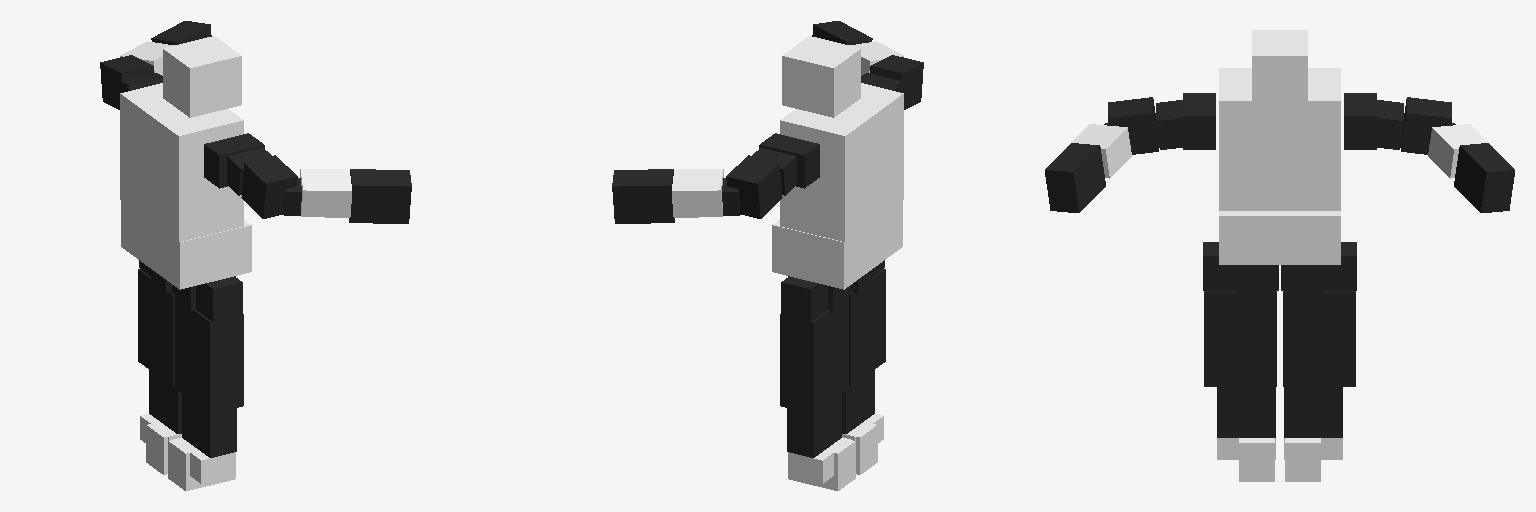
--- What the picture shows (computed from the rendered views, not written in the file) ---
3 views of the same robot in one strip: view 1: azimuth 30°, elevation 25°; view 2: azimuth 150°, elevation 25°; view 3: azimuth 270°, elevation 25° (orthographic).
Model talos with 60 links and 59 joints (32 revolute, 27 fixed), rooted at base_link, posed joints at zero except 4 at the middle of their limits (arm_left_2_joint = 1.44, arm_left_4_joint = -1.12, arm_right_2_joint = -1.44, arm_right_4_joint = -1.12).
Links seen in each view (by area): view 1: torso_2_link, leg_right_3_link, base_link, head_2_link, leg_left_3_link, arm_right_7_link, arm_right_3_link, arm_right_5_link, leg_right_4_link, leg_right_2_link, arm_right_1_link, arm_left_3_link (+7 smaller); view 2: torso_2_link, leg_left_3_link, base_link, head_2_link, leg_right_3_link, arm_left_7_link, arm_left_3_link, arm_left_5_link, leg_left_4_link, leg_left_2_link, arm_left_1_link, arm_right_3_link (+7 smaller); view 3: torso_2_link, leg_left_3_link, leg_right_3_link, base_link, head_2_link, arm_left_7_link, arm_right_7_link, leg_left_4_link, leg_right_4_link, arm_left_3_link, arm_right_3_link, arm_left_1_link (+11 smaller).
Link boxes in pixels (x1=…): torso_2_link: x1=120, y1=83, x2=243, y2=241; leg_right_3_link: x1=175, y1=300, x2=243, y2=413; base_link: x1=121, y1=201, x2=251, y2=289; head_2_link: x1=163, y1=36, x2=241, y2=117; leg_left_3_link: x1=138, y1=269, x2=174, y2=386; arm_right_7_link: x1=349, y1=169, x2=411, y2=223; arm_right_3_link: x1=241, y1=155, x2=297, y2=218; arm_right_5_link: x1=300, y1=169, x2=351, y2=217; leg_right_4_link: x1=182, y1=394, x2=236, y2=457; leg_right_2_link: x1=196, y1=276, x2=242, y2=321; arm_right_1_link: x1=204, y1=133, x2=264, y2=188; arm_left_3_link: x1=100, y1=55, x2=153, y2=109; torso_2_link: x1=780, y1=83, x2=903, y2=241; leg_left_3_link: x1=780, y1=300, x2=848, y2=413; base_link: x1=772, y1=201, x2=902, y2=289; head_2_link: x1=782, y1=36, x2=860, y2=117; leg_right_3_link: x1=849, y1=269, x2=885, y2=386; arm_left_7_link: x1=612, y1=169, x2=674, y2=223; arm_left_3_link: x1=726, y1=155, x2=782, y2=218; arm_left_5_link: x1=672, y1=169, x2=723, y2=217; leg_left_4_link: x1=787, y1=394, x2=841, y2=457; leg_left_2_link: x1=781, y1=276, x2=827, y2=321; arm_left_1_link: x1=759, y1=133, x2=819, y2=188; arm_right_3_link: x1=870, y1=55, x2=923, y2=109; torso_2_link: x1=1219, y1=68, x2=1340, y2=210; leg_left_3_link: x1=1283, y1=291, x2=1355, y2=386; leg_right_3_link: x1=1204, y1=291, x2=1276, y2=386; base_link: x1=1219, y1=211, x2=1340, y2=264; head_2_link: x1=1252, y1=30, x2=1307, y2=107; arm_left_7_link: x1=1454, y1=143, x2=1514, y2=212; arm_right_7_link: x1=1045, y1=143, x2=1105, y2=212; leg_left_4_link: x1=1284, y1=387, x2=1342, y2=437; leg_right_4_link: x1=1217, y1=387, x2=1275, y2=437; arm_left_3_link: x1=1401, y1=97, x2=1451, y2=154; arm_right_3_link: x1=1108, y1=97, x2=1158, y2=154; arm_left_1_link: x1=1344, y1=93, x2=1376, y2=149.
Size in the robot's own frame: 0.7145 by 1.74 by 1.76 metres.
0 mesh visuals loaded from 10 distinct referenced files (none loaded); not drawn: 21 (file found but could not be loaded).

The robot description file, URDF, robot "talos":
<?xml version="1.0" encoding="utf-8"?>
<!-- =================================================================================== -->
<!-- |    This document was autogenerated by xacro from talos_full_v2.urdf.xacro       | -->
<!-- |    EDITING THIS FILE BY HAND IS NOT RECOMMENDED                                 | -->
<!-- =================================================================================== -->
<!--

  Copyright (c) 2016, PAL Robotics, S.L.
  All rights reserved.

  This work is licensed under the Creative Commons Attribution-NonCommercial-NoDerivs 3.0 Unported License.
  To view a copy of this license, visit http://creativecommons.org/licenses/by-nc-nd/3.0/ or send a letter to
  Creative Commons, 444 Castro Street, Suite 900, Mountain View, California, 94041, USA.
-->
<robot name="talos" xmlns:controller="http://playerstage.sourceforge.net/gazebo/xmlschema/#controller" xmlns:interface="http://playerstage.sourceforge.net/gazebo/xmlschema/#interface" xmlns:sensor="http://playerstage.sourceforge.net/gazebo/xmlschema/#sensor">
  <!--************************-->
  <!--        TORSO_2  (TILT) -->
  <!--************************-->
  <link name="torso_2_link">
    <inertial>
      <mass value="16.97403"/>
      <inertia ixx="0.44372633826" ixy="0.00069132133" ixz="-0.01218206353" iyy="0.2998576068" iyz="-0.00019623338" izz="0.32201554742"/>
      <origin rpy="0 0 0" xyz="-0.0463563 -0.00099023 0.1452805"/>
    </inertial>
    <visual>
      <origin rpy="0 0 0" xyz="-0.06 0 0.17"/>
      <geometry>
        <box size="0.29 0.45 0.45"/>
      </geometry>
      <material name="White"/>
    </visual>
    <collision>
      <origin rpy="0 0 0" xyz="-0.06 0 0.17"/>
      <geometry>
        <box size="0.29 0.45 0.45"/>
        <!-- <mesh filename="package://talos_description/meshes/torso/torso_2_collision.glb" scale="1 1 1"/> -->
      </geometry>
    </collision>
  </link>
  <!--************************-->
  <!--        TORSO_1  (PAN)  -->
  <!--************************-->
  <link name="torso_1_link">
    <inertial>
      <mass value="2.294658"/>
      <inertia ixx="0.00638508087" ixy="-7.107e-08" ixz="-3.065592e-05" iyy="0.00410256102" iyz="-1.46946e-06" izz="0.00622968815"/>
      <origin rpy="0 0 0" xyz="0.00078223 3.528e-05 -0.01782457"/>
    </inertial>
    <visual>
      <origin rpy="0 0 0" xyz="0 0 0"/>
      <geometry>
        <mesh filename="package://talos_description/meshes/torso/torso_1.glb" scale="1 1 1"/>
      </geometry>
      <material name="White"/>
    </visual>
    <!-- <collision>
      <origin rpy="0 0 0" xyz="0 0 0"/>
      <geometry>
        <mesh filename="package://talos_description/meshes/torso/torso_1.glb" scale="1 1 1"/>
      </geometry>
    </collision> -->
  </link>
  <joint name="torso_1_joint" type="revolute">
    <parent link="base_link"/>
    <child link="torso_1_link"/>
    <!-- XXX AS: The kinematic chain order for the torso was reversed manually. This value does not match the CAD model. XXX -->
    <origin rpy="0.0 0.0 0.0" xyz="0.0 0.0 0.0722"/>
    <axis xyz="0 0 1"/>
    <limit effort="200.0" lower="-1.25663706144" upper="1.25663706144" velocity="5.4"/>
    <dynamics damping="1.0" friction="1.0"/>
    <!-- <safety_controller k_position="20"
                         k_velocity="20"
                         soft_lower_limit="${-15.0 * deg_to_rad + torso_eps}"
                         soft_upper_limit="${ 45.0 * deg_to_rad - torso_eps}" /> -->
  </joint>
  <!--************************-->
  <!--        BASE_LINK       -->
  <!--************************-->
  <link name="base_link">
    <inertial>
      <mass value="15.36284"/>
      <inertia ixx="0.20105075811" ixy="0.00023244734" ixz="0.0040167728" iyy="0.08411496729" iyz="-0.00087206649" izz="0.2318908414"/>
      <origin rpy="0 0 0" xyz="-0.05709419 0.00153054 -0.0762521"/>
    </inertial>
    <visual>
      <origin rpy="0 0 0" xyz="-0.04 0 -0.085"/>
      <geometry>
        <box size="0.32 0.45 0.2"/>
      </geometry>
      <material name="White"/>
    </visual>
    <collision>
      <origin rpy="0 0 0" xyz="-0.04 0 -0.085"/>
      <geometry>
        <box size="0.32 0.45 0.2"/>
        <!-- <mesh filename="package://talos_description/meshes/torso/base_link_collision.glb" scale="1 1 1"/> -->
      </geometry>
    </collision>
  </link>
  <joint name="torso_2_joint" type="revolute">
    <parent link="torso_1_link"/>
    <child link="torso_2_link"/>
    <origin rpy="0.0 0.0 0.0" xyz="0.0 0.0 0.0"/>
    <axis xyz="0 1 0"/>
    <limit effort="200.0" lower="-0.226892802759" upper="0.733038285838" velocity="5.4"/>
    <dynamics damping="1.0" friction="1.0"/>
    <!-- <safety_controller k_position="20"
                          k_velocity="20"
                          soft_lower_limit="${-75.00000 * deg_to_rad + eps_radians}"
                          soft_upper_limit="${75.00000 * deg_to_rad - eps_radians}" /> -->
  </joint>
  <link name="imu_link">
    <inertial>
      <mass value="0.01"/>
      <inertia ixx="1e-06" ixy="0" ixz="0" iyy="1e-06" iyz="0" izz="1e-06"/>
      <origin rpy="0 0 0" xyz="0 0 0"/>
    </inertial>
    <visual>
      <origin rpy="0 0 0" xyz="0 0 0"/>
      <geometry>
        <box size="0.01 0.01 0.01"/>
      </geometry>
      <material name="White"/>
      <!-- Not sure about this -->
    </visual>
  </link>
  <joint name="imu_joint" type="fixed">
    <origin rpy="3.14159265359 0 1.57079632679" xyz="0.04925 0 0.078"/>
    <parent link="torso_2_link"/>
    <child link="imu_link"/>
  </joint>
  <link name="head_1_link">
    <inertial>
      <mass value="0.73746"/>
      <inertia ixx="0.00224878584" ixy="4.69375e-06" ixz="8.55557e-05" iyy="0.00111158492" iyz="-4.132536e-05" izz="0.00205225921"/>
      <origin rpy="0 0 0" xyz="-0.00157211 -0.00157919 0.02175767"/>
    </inertial>
    <visual>
      <origin rpy="0 0 0" xyz="0 0 0"/>
      <geometry>
        <mesh filename="package://talos_description/meshes/head/head_1.glb" scale="1 1 1"/>
      </geometry>
      <material name="DarkGrey"/>
    </visual>
    <!-- <collision>
      <origin rpy="0 0 0" xyz="0 0 0"/>
      <geometry>
        <mesh filename="package://talos_description/meshes/head/head_1_collision.glb" scale="1 1 1"/>
      </geometry>
    </collision> -->
  </link>
  <joint name="head_1_joint" type="revolute">
    <parent link="torso_2_link"/>
    <child link="head_1_link"/>
    <origin rpy="0.0 0.0 0.0" xyz="0.02000 0.00000 0.32100"/>
    <axis xyz="0 1 0"/>
    <limit effort="8.0" lower="-0.209439510239" upper="0.785398163397" velocity="3.0"/>
    <dynamics damping="0.5" friction="1.0"/>
    <!-- <safety_controller k_position="20"
                          k_velocity="20"
                          soft_lower_limit="${-15.00000 * deg_to_rad + eps_radians}"
                          soft_upper_limit="${45.00000 * deg_to_rad - eps_radians}" /> -->
  </joint>
  <link name="head_2_link">
    <inertial>
      <mass value="1.443954"/>
      <inertia ixx="0.01084624339" ixy="1.050889e-05" ixz="0.00041594252" iyy="0.0109569176" iyz="2.367831e-05" izz="0.00571698895"/>
      <origin rpy="0 0 0" xyz="0.01002657 5.218e-05 0.14136068"/>
    </inertial>
    <visual>
      <origin rpy="0 0 0" xyz="0.01 0 0.18"/>
      <geometry>
        <box size="0.23 0.21 0.21"/>
      </geometry>
      <material name="White"/>
    </visual>
    <collision>
      <origin rpy="0 0 0" xyz="0.01 0 0.18"/>
      <geometry>
        <box size="0.23 0.21 0.21"/>
        <!-- <mesh filename="package://talos_description/meshes/head/head_2_default_collision.stl" scale="1 1 1"/> -->
      </geometry>
    </collision>
  </link>
  <joint name="head_2_joint" type="revolute">
    <parent link="head_1_link"/>
    <child link="head_2_link"/>
    <origin rpy="0.0 0.0 0.0" xyz="0.00000 0.00000 0.00000"/>
    <axis xyz="0 0 1"/>
    <limit effort="4.0" lower="-1.308996939" upper="1.308996939" velocity="3.0"/>
    <dynamics damping="0.5" friction="1.0"/>
    <!-- <safety_controller k_position="20"
                          k_velocity="20"
                          soft_lower_limit="${-75.00000 * deg_to_rad + eps_radians}"
                          soft_upper_limit="${75.00000 * deg_to_rad - eps_radians}" /> -->
  </joint>
  <!-- frames in the center of the camera -->
  <joint name="rgbd_joint" type="fixed">
    <origin rpy="0.0 0.0 0.0" xyz="0.066 0.0 0.1982"/>
    <axis xyz="0 0 1"/>
    <!-- <limit lower="0" upper="0.001" effort="100" velocity="0.01"/> -->
    <parent link="head_2_link"/>
    <child link="rgbd_link"/>
  </joint>
  <link name="rgbd_link">
    <inertial>
      <mass value="0.01"/>
      <inertia ixx="3e-05" ixy="0" ixz="0" iyy="2e-06" iyz="0" izz="3e-05"/>
      <origin rpy="0 0 0" xyz="-0.01 0.0025 0"/>
    </inertial>
    <visual>
      <origin rpy="0 0 0" xyz="0 0 0"/>
      <geometry>
        <mesh filename="package://talos_description/meshes/sensors/orbbec/orbbec.glb"/>
      </geometry>
    </visual>
    <!-- <collision>
      <origin rpy="0 0 0" xyz="-0.01 0.0025 0"/>
      <geometry>
        <box size="0.04 0.185 0.03"/>
      </geometry>
    </collision> -->
  </link>
  <joint name="rgbd_optical_joint" type="fixed">
    <origin rpy="-1.57079632679 0 -1.57079632679" xyz="0 0 0"/>
    <parent link="rgbd_link"/>
    <child link="rgbd_optical_frame"/>
  </joint>
  <link name="rgbd_optical_frame">
    <inertial>
      <mass value="0.01"/>
      <inertia ixx="1e-06" ixy="0" ixz="0" iyy="1e-06" iyz="0" izz="1e-06"/>
      <origin rpy="0 0 0" xyz="0 0 0"/>
    </inertial>
  </link>
  <!-- frames of the depth sensor -->
  <joint name="rgbd_depth_joint" type="fixed">
    <origin rpy="0 0 0" xyz="0.0 0.03751 0.0"/>
    <parent link="rgbd_link"/>
    <child link="rgbd_depth_frame"/>
  </joint>
  <link name="rgbd_depth_frame">
    <inertial>
      <mass value="0.01"/>
      <inertia ixx="1e-06" ixy="0" ixz="0" iyy="1e-06" iyz="0" izz="1e-06"/>
      <origin rpy="0 0 0" xyz="0 0 0"/>
    </inertial>
  </link>
  <joint name="rgbd_depth_optical_joint" type="fixed">
    <origin rpy="-1.57079632679 0.0 -1.57079632679" xyz="0 0 0"/>
    <parent link="rgbd_depth_frame"/>
    <child link="rgbd_depth_optical_frame"/>
  </joint>
  <link name="rgbd_depth_optical_frame">
    <inertial>
      <mass value="0.01"/>
      <inertia ixx="1e-06" ixy="0" ixz="0" iyy="1e-06" iyz="0" izz="1e-06"/>
      <origin rpy="0 0 0" xyz="0 0 0"/>
    </inertial>
  </link>
  <!-- frames of the rgb sensor -->
  <joint name="rgbd_rgb_joint" type="fixed">
    <origin rpy="0 0 0" xyz="0.0 0.01251 0.0"/>
    <parent link="rgbd_link"/>
    <child link="rgbd_rgb_frame"/>
  </joint>
  <link name="rgbd_rgb_frame">
    <inertial>
      <mass value="0.01"/>
      <inertia ixx="1e-06" ixy="0" ixz="0" iyy="1e-06" iyz="0" izz="1e-06"/>
      <origin rpy="0 0 0" xyz="0 0 0"/>
    </inertial>
  </link>
  <joint name="rgbd_rgb_optical_joint" type="fixed">
    <origin rpy="-1.57079632679 0.0 -1.57079632679" xyz="0 0 0"/>
    <parent link="rgbd_rgb_frame"/>
    <child link="rgbd_rgb_optical_frame"/>
  </joint>
  <link name="rgbd_rgb_optical_frame">
    <inertial>
      <mass value="0.01"/>
      <inertia ixx="1e-06" ixy="0" ixz="0" iyy="1e-06" iyz="0" izz="1e-06"/>
      <origin rpy="0 0 0" xyz="0 0 0"/>
    </inertial>
  </link>
  <!--************************-->
  <!--        SHOULDER        -->
  <!--************************-->
  <link name="arm_left_1_link">
    <inertial>
      <mass value="2.714567"/>
      <inertia ixx="0.01237818683" ixy="-3.625571e-05" ixz="7.14472e-05" iyy="0.004191372" iyz="-0.00023639064" izz="0.01358161109"/>
      <origin rpy="0 0 0" xyz="-0.0002762 0.10060223 0.04437419"/>
    </inertial>
    <visual>
      <origin rpy="0 0 0" xyz="0.0 0.14 0.04"/>
      <geometry>
        <box size="0.2 0.12 0.14"/>
      </geometry>
      <material name="DarkGrey"/>
    </visual>
    <collision>
      <origin rpy="0 0 0" xyz="0.0 0.14 0.04"/>
      <geometry>
        <box size="0.2 0.12 0.14"/>
        <!-- <mesh filename="package://talos_description/meshes/arm/arm_1_collision.glb" scale="1 1 1"/> -->
      </geometry>
    </collision>
  </link>
  <joint name="arm_left_1_joint" type="revolute">
    <parent link="torso_2_link"/>
    <child link="arm_left_1_link"/>
    <origin rpy="0.0 0.0 0.0" xyz="0.00000 0.1575 0.23200"/>
    <axis xyz="0 0 1"/>
    <!-- v1 TALOS has 1st arm left joint (-90,30) and right joint (-30,90) -->
    <!-- v2 TALOS has 1st arm left joint (-90,50) and right joint (-50,90) -->
    <limit effort="100.0" lower="-1.57079632679" upper="0.785398163397" velocity="2.7"/>
    <dynamics damping="1.0" friction="1.0"/>
    <!--        <safety_controller k_position="20"
                          k_velocity="20"
                          soft_lower_limit="${-90.00000 * deg_to_rad + arm_eps}"
                          soft_upper_limit="${30.00000 * deg_to_rad - arm_eps}" /> -->
  </joint>
  <link name="arm_left_2_link">
    <inertial>
      <mass value="2.425086"/>
      <inertia ixx="0.01297822101" ixy="1.208791e-05" ixz="-0.00320370433" iyy="0.01380870278" iyz="-0.00012770059" izz="0.00478856621"/>
      <origin rpy="0 0 0" xyz="0.01438831 0.00092938 -0.08684268"/>
    </inertial>
    <visual>
      <origin rpy="0 0 0" xyz="0.01 0.0 -0.1"/>
      <geometry>
        <box size="0.16 0.12 0.12"/>
      </geometry>
      <material name="DarkGrey"/>
    </visual>
    <collision>
      <origin rpy="0 0 0" xyz="0.01 0.0 -0.1"/>
      <geometry>
        <box size="0.16 0.12 0.12"/>
        <!-- <mesh filename="package://talos_description/meshes/arm/arm_2_collision.glb" scale="1 1 1"/> -->
      </geometry>
    </collision>
  </link>
  <joint name="arm_left_2_joint" type="revolute">
    <parent link="arm_left_1_link"/>
    <child link="arm_left_2_link"/>
    <origin rpy="0.0 0.0 0.0" xyz="0.00493 0.1365 0.04673"/>
    <axis xyz="1 0 0"/>
    <limit effort="100.0" lower="0.00872664625997" upper="2.87106661953" velocity="3.66"/>
    <dynamics damping="1.0" friction="1.0"/>
    <!--        <safety_controller k_position="20"
                          k_velocity="20"
                          soft_lower_limit="${0.00000 * deg_to_rad + arm_eps}"
                          soft_upper_limit="${165.00000 * deg_to_rad - arm_eps}" /> -->
  </joint>
  <link name="arm_left_3_link">
    <inertial>
      <mass value="2.208741"/>
      <inertia ixx="0.00718831493" ixy="-0.00011563551" ixz="0.00075969733" iyy="0.00693528503" iyz="0.00042134743" izz="0.00388359007"/>
      <origin rpy="0 0 0" xyz="0.0136084 0.01241619 -0.2499004"/>
    </inertial>
    <visual>
      <origin rpy="0 0 0" xyz="0.01 0.01 -0.25"/>
      <geometry>
        <box size="0.14 0.16 0.17"/>
      </geometry>
      <material name="DarkGrey"/>
    </visual>
    <collision>
      <origin rpy="0 0 0" xyz="0.01 0.01 -0.25"/>
      <geometry>
        <box size="0.14 0.16 0.17"/>
        <!-- <mesh filename="package://talos_description/meshes/arm/arm_3_collision.glb" scale="1 1 1"/> -->
      </geometry>
    </collision>
  </link>
  <joint name="arm_left_3_joint" type="revolute">
    <parent link="arm_left_2_link"/>
    <child link="arm_left_3_link"/>
    <origin rpy="0.0 0.0 0.0" xyz="0.00000 0.00000 0.00000"/>
    <axis xyz="0 0 1"/>
    <limit effort="70.0" lower="-2.42600766027" upper="2.42600766027" velocity="4.58"/>
    <dynamics damping="1.0" friction="1.0"/>
    <!--       <safety_controller k_position="20"
                          k_velocity="20"
                          soft_lower_limit="${-140.0 * deg_to_rad + arm_eps}"
                          soft_upper_limit="${140.0 * deg_to_rad - arm_eps}" /> -->
  </joint>
  <!--************************-->
  <!--        ELBOW           -->
  <!--************************-->
  <link name="arm_left_4_link">
    <inertial>
      <mass value="0.877346"/>
      <inertia ixx="0.00251207716" ixy="0.00010070062" ixz="-0.00032788214" iyy="0.00275869324" iyz="0.00040022227" izz="0.00120735959"/>
      <origin rpy="0 0 0" xyz="-0.00742138 -0.0213895 -0.03312656"/>
    </inertial>
    <visual>
      <origin rpy="0 0 0" xyz="-0.02 -0.01 -0.07"/>
      <geometry>
        <box size="0.1 0.11 0.07"/>
      </geometry>
      <material name="DarkGrey"/>
    </visual>
    <collision>
      <origin rpy="0 0 0" xyz="-0.02 -0.01 -0.07"/>
      <geometry>
        <box size="0.1 0.11 0.07"/>
        <!-- <mesh filename="package://talos_description/meshes/arm/arm_4_collision.glb" scale="1 1 1"/> -->
      </geometry>
    </collision>
  </link>
  <joint name="arm_left_4_joint" type="revolute">
    <parent link="arm_left_3_link"/>
    <child link="arm_left_4_link"/>
    <origin rpy="0.0 0.0 0.0" xyz="0.02000 0.00000 -0.27300"/>
    <axis xyz="0 1 0"/>
    <limit effort="70.0" lower="-2.23402144255" upper="-0.00349065850399" velocity="4.58"/>
    <dynamics damping="1.0" friction="1.0"/>
    <!--       <safety_controller k_position="20"
                          k_velocity="20"
                          soft_lower_limit="${-135.0 * deg_to_rad + arm_eps}"
                          soft_upper_limit="${0.0 * deg_to_rad - arm_eps}" /> -->
  </joint>
  <!--************************-->
  <!--        WRIST           -->
  <!--************************-->
  <link name="arm_left_5_link">
    <inertial>
      <mass value="1.877923"/>
      <inertia ixx="0.00349507283" ixy="1.265489e-05" ixz="1.038286e-05" iyy="0.00436830072" iyz="-9.736042e-05" izz="0.0022826337"/>
      <origin rpy="0 0 0" xyz="-6e-05 0.003262 0.079625"/>
    </inertial>
    <visual>
      <origin rpy="0 0 0" xyz="0.0 0.01 0.07"/>
      <geometry>
        <box size="0.16 0.12 0.19"/>
      </geometry>
      <material name="White"/>
    </visual>
    <collision>
      <origin rpy="0 0 0" xyz="0.0 0.01 0.07"/>
      <geometry>
        <box size="0.16 0.12 0.19"/>
        <!-- <mesh filename="package://talos_description/meshes/arm/arm_5_collision.glb" scale="1 1 1"/> -->
      </geometry>
    </collision>
  </link>
  <joint name="arm_left_5_joint" type="revolute">
    <parent link="arm_left_4_link"/>
    <child link="arm_left_5_link"/>
    <origin rpy="0.0 0.0 0.0" xyz="-0.02000 0.00000 -0.26430"/>
    <axis xyz="0 0 1"/>
    <limit effort="20.0" lower="-2.51327412287" upper="2.51327412287" velocity="1.95"/>
    <dynamics damping="1.0" friction="1.0"/>
    <!--       <safety_controller k_position="20"
                          k_velocity="20"
                          soft_lower_limit="${-145.00000 * deg_to_rad + wrist_eps}"
                          soft_upper_limit="${145.00000 * deg_to_rad - wrist_eps}" /> -->
  </joint>
  <link name="arm_left_6_link">
    <inertial>
      <mass value="0.40931"/>
      <inertia ixx="0.00010700023" ixy="-8.899e-08" ixz="-4.392e-08" iyy="0.00014101316" iyz="4.1702e-07" izz="0.00015398658"/>
      <origin rpy="0 0 0" xyz="2.1e-05 -0.001965 -0.000591"/>
    </inertial>
    <visual>
      <origin rpy="0 0 0" xyz="0 0 0"/>
      <geometry>
        <mesh filename="package://talos_description/meshes/arm/arm_6.glb" scale="1 1 1"/>
      </geometry>
      <material name="White"/>
    </visual>
    <!-- <collision>
      <origin rpy="0 0 0" xyz="0 0 0"/>
      <geometry>
        <mesh filename="package://talos_description/meshes/arm/arm_6_collision.glb" scale="1 1 1"/>
      </geometry>
    </collision> -->
  </link>
  <joint name="arm_left_6_joint" type="revolute">
    <parent link="arm_left_5_link"/>
    <child link="arm_left_6_link"/>
    <origin rpy="0.0 0.0 0.0" xyz="0.00000 0.00000 0.00000"/>
    <axis xyz="1 0 0"/>
    <limit effort="8.0" lower="-1.37008346282" upper="1.37008346282" velocity="1.76"/>
    <dynamics damping="1.0" friction="1.0"/>
    <!--       <safety_controller k_position="20"
                          k_velocity="20"
                          soft_lower_limit="${-80.00000 * deg_to_rad + eps_radians}"
                          soft_upper_limit="${80.00000 * deg_to_rad - eps_radians}" /> -->
  </joint>
  <link name="arm_left_7_link">
    <inertial>
      <mass value="0.308441"/>
      <inertia ixx="0.00030894317" ixy="-1.58687e-06" ixz="1.73418e-06" iyy="0.00021886181" iyz="-1.221167e-05" izz="0.00017519492"/>
      <origin rpy="0 0 0" xyz="0.007525 0.001378 -0.02463"/>
    </inertial>
    <visual>
      <origin rpy="0 0 0" xyz="0 0 -0.14"/>
      <geometry>
        <box size="0.12 0.17 0.23"/>
      </geometry>
      <material name="DarkGrey"/>
    </visual>
    <collision>
      <origin rpy="0 0 0" xyz="0 0 -0.14"/>
      <geometry>
        <box size="0.12 0.17 0.23"/>
        <!-- <mesh filename="package://talos_description/meshes/arm/arm_7_collision.glb" scale="1 1 1"/> -->
      </geometry>
    </collision>
  </link>
  <joint name="arm_left_7_joint" type="revolute">
    <parent link="arm_left_6_link"/>
    <child link="arm_left_7_link"/>
    <origin rpy="0.0 0.0 0.0" xyz="0.0 0.0 0.0"/>
    <axis xyz="0 1 0"/>
    <limit effort="8.0" lower="-0.680678408278" upper="0.680678408278" velocity="1.76"/>
    <dynamics damping="1.0" friction="1.0"/>
    <!--       <safety_controller k_position="20"
                          k_velocity="20"
                          soft_lower_limit="${-40.00000 * deg_to_rad + eps_radians}"
                          soft_upper_limit="${40.00000 * deg_to_rad - eps_radians}" /> -->
  </joint>
  <!--************************-->
  <!--        SHOULDER        -->
  <!--************************-->
  <link name="arm_right_1_link">
    <inertial>
      <mass value="2.714567"/>
      <inertia ixx="0.01237818683" ixy="3.625571e-05" ixz="7.14472e-05" iyy="0.004191372" iyz="0.00023639064" izz="0.01358161109"/>
      <origin rpy="0 0 0" xyz="-0.0002762 -0.10060223 0.04437419"/>
    </inertial>
    <visual>
      <origin rpy="0 0 0" xyz="0.0 -0.14 0.04"/>
      <geometry>
        <box size="0.2 0.12 0.14"/>
      </geometry>
      <material name="DarkGrey"/>
    </visual>
    <collision>
      <origin rpy="0 0 0" xyz="0.0 -0.14 0.04"/>
      <geometry>
        <box size="0.2 0.12 0.14"/>
        <!-- <mesh filename="package://talos_description/meshes/arm/arm_1_collision.glb" scale="1 -1 1"/> -->
      </geometry>
    </collision>
  </link>
  <joint name="arm_right_1_joint" type="revolute">
    <parent link="torso_2_link"/>
    <child link="arm_right_1_link"/>
    <origin rpy="0.0 0.0 0.0" xyz="0.00000 -0.1575 0.23200"/>
    <axis xyz="0 0 1"/>
    <!-- v1 TALOS has 1st arm left joint (-90,30) and right joint (-30,90) -->
    <!-- v2 TALOS has 1st arm left joint (-90,50) and right joint (-50,90) -->
    <limit effort="100.0" lower="-0.785398163397" upper="1.57079632679" velocity="2.7"/>
    <dynamics damping="1.0" friction="1.0"/>
    <!--        <safety_controller k_position="20"
                          k_velocity="20"
                          soft_lower_limit="${-90.00000 * deg_to_rad + arm_eps}"
                          soft_upper_limit="${30.00000 * deg_to_rad - arm_eps}" /> -->
  </joint>
  <link name="arm_right_2_link">
    <inertial>
      <mass value="2.425086"/>
      <inertia ixx="0.01297822101" ixy="-1.208791e-05" ixz="-0.00320370433" iyy="0.01380870278" iyz="0.00012770059" izz="0.00478856621"/>
      <origin rpy="0 0 0" xyz="0.01438831 -0.00092938 -0.08684268"/>
    </inertial>
    <visual>
      <origin rpy="0 0 0" xyz="0.01 0.0 -0.1"/>
      <geometry>
        <box size="0.16 0.12 0.12"/>
      </geometry>
      <material name="DarkGrey"/>
    </visual>
    <collision>
      <origin rpy="0 0 0" xyz="0.01 0.0 -0.1"/>
      <geometry>
        <box size="0.16 0.12 0.12"/>
        <!-- <mesh filename="package://talos_description/meshes/arm/arm_2_collision.glb" scale="1 -1 1"/> -->
      </geometry>
    </collision>
  </link>
  <joint name="arm_right_2_joint" type="revolute">
    <parent link="arm_right_1_link"/>
    <child link="arm_right_2_link"/>
    <origin rpy="0.0 0.0 0.0" xyz="0.00493 -0.1365 0.04673"/>
    <axis xyz="1 0 0"/>
    <limit effort="100.0" lower="-2.87106661953" upper="-0.00872664625997" velocity="3.66"/>
    <dynamics damping="1.0" friction="1.0"/>
    <!--        <safety_controller k_position="20"
                          k_velocity="20"
                          soft_lower_limit="${0.00000 * deg_to_rad + arm_eps}"
                          soft_upper_limit="${165.00000 * deg_to_rad - arm_eps}" /> -->
  </joint>
  <link name="arm_right_3_link">
    <inertial>
      <mass value="2.208741"/>
      <inertia ixx="0.00718831493" ixy="0.00011563551" ixz="0.00075969733" iyy="0.00693528503" iyz="-0.00042134743" izz="0.00388359007"/>
      <origin rpy="0 0 0" xyz="0.0136084 -0.01241619 -0.2499004"/>
    </inertial>
    <visual>
      <origin rpy="0 0 0" xyz="0.01 -0.01 -0.25"/>
      <geometry>
        <box size="0.14 0.16 0.17"/>
      </geometry>
      <material name="DarkGrey"/>
    </visual>
    <collision>
      <origin rpy="0 0 0" xyz="0.01 -0.01 -0.25"/>
      <geometry>
        <box size="0.14 0.16 0.17"/>
        <!-- <mesh filename="package://talos_description/meshes/arm/arm_3_collision.glb" scale="1 -1 1"/> -->
      </geometry>
    </collision>
  </link>
  <joint name="arm_right_3_joint" type="revolute">
    <parent link="arm_right_2_link"/>
    <child link="arm_right_3_link"/>
    <origin rpy="0.0 0.0 0.0" xyz="0.00000 0.00000 0.00000"/>
    <axis xyz="0 0 1"/>
    <limit effort="70.0" lower="-2.42600766027" upper="2.42600766027" velocity="4.58"/>
    <dynamics damping="1.0" friction="1.0"/>
    <!--       <safety_controller k_position="20"
                          k_velocity="20"
                          soft_lower_limit="${-140.0 * deg_to_rad + arm_eps}"
                          soft_upper_limit="${140.0 * deg_to_rad - arm_eps}" /> -->
  </joint>
  <!--************************-->
  <!--        ELBOW           -->
  <!--************************-->
  <link name="arm_right_4_link">
    <inertial>
      <mass value="0.877346"/>
      <inertia ixx="0.00251207716" ixy="-0.00010070062" ixz="-0.00032788214" iyy="0.00275869324" iyz="-0.00040022227" izz="0.00120735959"/>
      <origin rpy="0 0 0" xyz="-0.00742138 0.0213895 -0.03312656"/>
    </inertial>
    <visual>
      <origin rpy="0 0 0" xyz="-0.02 0.01 -0.07"/>
      <geometry>
        <box size="0.1 0.11 0.07"/>
      </geometry>
      <material name="DarkGrey"/>
    </visual>
    <collision>
      <origin rpy="0 0 0" xyz="-0.02 0.01 -0.07"/>
      <geometry>
        <box size="0.1 0.11 0.07"/>
        <!-- <mesh filename="package://talos_description/meshes/arm/arm_4_collision.glb" scale="1 -1 1"/> -->
      </geometry>
    </collision>
  </link>
  <joint name="arm_right_4_joint" type="revolute">
    <parent link="arm_right_3_link"/>
    <child link="arm_right_4_link"/>
    <origin rpy="0.0 0.0 0.0" xyz="0.02000 0.00000 -0.27300"/>
    <axis xyz="0 1 0"/>
    <limit effort="70.0" lower="-2.23402144255" upper="-0.00349065850399" velocity="4.58"/>
    <dynamics damping="1.0" friction="1.0"/>
    <!--       <safety_controller k_position="20"
                          k_velocity="20"
                          soft_lower_limit="${-135.0 * deg_to_rad + arm_eps}"
                          soft_upper_limit="${0.0 * deg_to_rad - arm_eps}" /> -->
  </joint>
  <!--************************-->
  <!--        WRIST           -->
  <!--************************-->
  <link name="arm_right_5_link">
    <inertial>
      <mass value="1.877923"/>
      <inertia ixx="0.00349507283" ixy="-1.265489e-05" ixz="1.038286e-05" iyy="0.00436830072" iyz="9.736042e-05" izz="0.0022826337"/>
      <origin rpy="0 0 0" xyz="-6e-05 -0.003262 0.079625"/>
    </inertial>
    <visual>
      <origin rpy="0 0 0" xyz="0.0 -0.01 0.07"/>
      <geometry>
        <box size="0.16 0.12 0.19"/>
      </geometry>
      <material name="White"/>
    </visual>
    <collision>
      <origin rpy="0 0 0" xyz="0.0 -0.01 0.07"/>
      <geometry>
        <box size="0.16 0.12 0.19"/>
        <!-- <mesh filename="package://talos_description/meshes/arm/arm_5_collision.glb" scale="1 -1 1"/> -->
      </geometry>
    </collision>
  </link>
  <joint name="arm_right_5_joint" type="revolute">
    <parent link="arm_right_4_link"/>
    <child link="arm_right_5_link"/>
    <origin rpy="0.0 0.0 0.0" xyz="-0.02000 0.00000 -0.26430"/>
    <axis xyz="0 0 1"/>
    <limit effort="20.0" lower="-2.51327412287" upper="2.51327412287" velocity="1.95"/>
    <dynamics damping="1.0" friction="1.0"/>
    <!--       <safety_controller k_position="20"
                          k_velocity="20"
                          soft_lower_limit="${-145.00000 * deg_to_rad + wrist_eps}"
                          soft_upper_limit="${145.00000 * deg_to_rad - wrist_eps}" /> -->
  </joint>
  <link name="arm_right_6_link">
    <inertial>
      <mass value="0.40931"/>
      <inertia ixx="0.00010700023" ixy="8.899e-08" ixz="-4.392e-08" iyy="0.00014101316" iyz="-4.1702e-07" izz="0.00015398658"/>
      <origin rpy="0 0 0" xyz="2.1e-05 0.001965 -0.000591"/>
    </inertial>
    <visual>
      <origin rpy="0 0 0" xyz="0 0 0"/>
      <geometry>
        <mesh filename="package://talos_description/meshes/arm/arm_6.glb" scale="1 -1 1"/>
      </geometry>
      <material name="White"/>
    </visual>
    <!-- <collision>
      <origin rpy="0 0 0" xyz="0 0 0"/>
      <geometry>
        <mesh filename="package://talos_description/meshes/arm/arm_6_collision.glb" scale="1 -1 1"/>
      </geometry>
    </collision> -->
  </link>
  <joint name="arm_right_6_joint" type="revolute">
    <parent link="arm_right_5_link"/>
    <child link="arm_right_6_link"/>
    <origin rpy="0.0 0.0 0.0" xyz="0.00000 0.00000 0.00000"/>
    <axis xyz="1 0 0"/>
    <limit effort="8.0" lower="-1.37008346282" upper="1.37008346282" velocity="1.76"/>
    <dynamics damping="1.0" friction="1.0"/>
    <!--       <safety_controller k_position="20"
                          k_velocity="20"
                          soft_lower_limit="${-80.00000 * deg_to_rad + eps_radians}"
                          soft_upper_limit="${80.00000 * deg_to_rad - eps_radians}" /> -->
  </joint>
  <link name="arm_right_7_link">
    <inertial>
      <mass value="0.308441"/>
      <inertia ixx="0.00030894317" ixy="1.58687e-06" ixz="1.73418e-06" iyy="0.00021886181" iyz="1.221167e-05" izz="0.00017519492"/>
      <origin rpy="0 0 0" xyz="0.007525 -0.001378 -0.02463"/>
    </inertial>
    <visual>
      <origin rpy="0 0 0" xyz="0 0 -0.14"/>
      <geometry>
        <box size="0.12 0.17 0.23"/>
      </geometry>
      <material name="DarkGrey"/>
    </visual>
    <collision>
      <origin rpy="0 0 0" xyz="0 0 -0.14"/>
      <geometry>
        <box size="0.12 0.17 0.23"/>
        <!-- <mesh filename="package://talos_description/meshes/arm/arm_7_collision.glb" scale="1 -1 1"/> -->
      </geometry>
    </collision>
  </link>
  <joint name="arm_right_7_joint" type="revolute">
    <parent link="arm_right_6_link"/>
    <child link="arm_right_7_link"/>
    <origin rpy="0.0 0.0 0.0" xyz="0.0 0.0 0.0"/>
    <axis xyz="0 1 0"/>
    <limit effort="8.0" lower="-0.680678408278" upper="0.680678408278" velocity="1.76"/>
    <dynamics damping="1.0" friction="1.0"/>
    <!--       <safety_controller k_position="20"
                          k_velocity="20"
                          soft_lower_limit="${-40.00000 * deg_to_rad + eps_radians}"
                          soft_upper_limit="${40.00000 * deg_to_rad - eps_radians}" /> -->
  </joint>
  <!--************************-->
  <!--        ft sensor       -->
  <!--************************-->
  <link name="wrist_right_ft_link">
    <inertial>
      <mass value="0.095"/>
      <inertia ixx="1.108502e-05" ixy="9.9077e-07" ixz="-2.3811e-07" iyy="1.092725e-05" iyz="2.3137e-07" izz="1.898772e-05"/>
      <origin rpy="0 0 0" xyz="-0.001001 0.000995 -0.008108"/>
    </inertial>
    <visual>
      <origin rpy="0 0 0" xyz="0 0 0"/>
      <geometry>
        <cylinder length="0.0157" radius="0.0225"/>
      </geometry>
      <material name="LightGrey"/>
    </visual>
    <!-- <collision>
      <origin rpy="0 0 0" xyz="0 0 0"/>
      <geometry>
        <cylinder length="0.0157" radius="0.0225"/>
      </geometry>
    </collision> -->
  </link>
  <joint name="wrist_right_ft_joint" type="fixed">
    <parent link="arm_right_7_link"/>
    <child link="wrist_right_ft_link"/>
    <origin rpy="0.0 0 -1.57079632679" xyz="0 0 -0.051"/>
  </joint>
  <!--***********************-->
  <!--       FT TOOL         -->
  <!--***********************-->
  <link name="wrist_right_ft_tool_link">
    <inertial>
      <mass value="0.001"/>
      <inertia ixx="1e-06" ixy="0" ixz="0" iyy="1e-06" iyz="0" izz="1e-06"/>
      <origin rpy="0 0 0" xyz="0 0 0"/>
    </inertial>
    <visual>
      <origin rpy="0 0.0 0" xyz="0.0 0 0"/>
      <geometry>
        <cylinder length="0.00975" radius="0.025"/>
      </geometry>
      <material name="DarkGrey"/>
    </visual>
    <!-- <collision>
      <origin rpy="0 0.0 0" xyz="0.0 0 0"/>
      <geometry>
        <cylinder length="0.00975" radius="0.025"/>
      </geometry>
    </collision> -->
  </link>
  <joint name="wrist_right_tool_joint" type="fixed">
    <parent link="wrist_right_ft_link"/>
    <child link="wrist_right_ft_tool_link"/>
    <origin rpy="0 0 -1.57079632679" xyz="0 0 -0.012725"/>
  </joint>
  <!--************************-->
  <!--        ft sensor       -->
  <!--************************-->
  <link name="wrist_left_ft_link">
    <inertial>
      <mass value="0.095"/>
      <inertia ixx="1.108502e-05" ixy="9.9077e-07" ixz="-2.3811e-07" iyy="1.092725e-05" iyz="2.3137e-07" izz="1.898772e-05"/>
      <origin rpy="0 0 0" xyz="-0.001001 0.000995 -0.008108"/>
    </inertial>
    <visual>
      <origin rpy="0 0 0" xyz="0 0 0"/>
      <geometry>
        <cylinder length="0.0157" radius="0.0225"/>
      </geometry>
      <material name="LightGrey"/>
    </visual>
    <!-- <collision>
      <origin rpy="0 0 0" xyz="0 0 0"/>
      <geometry>
        <cylinder length="0.0157" radius="0.0225"/>
      </geometry>
    </collision> -->
  </link>
  <joint name="wrist_left_ft_joint" type="fixed">
    <parent link="arm_left_7_link"/>
    <child link="wrist_left_ft_link"/>
    <origin rpy="0.0 0 -4.71238898038" xyz="0 0 -0.051"/>
  </joint>
  <!--***********************-->
  <!--       FT TOOL         -->
  <!--***********************-->
  <link name="wrist_left_ft_tool_link">
    <inertial>
      <mass value="0.001"/>
      <inertia ixx="1e-06" ixy="0" ixz="0" iyy="1e-06" iyz="0" izz="1e-06"/>
      <origin rpy="0 0 0" xyz="0 0 0"/>
    </inertial>
    <visual>
      <origin rpy="0 0.0 0" xyz="0.0 0 0"/>
      <geometry>
        <cylinder length="0.00975" radius="0.025"/>
      </geometry>
      <material name="DarkGrey"/>
    </visual>
    <!-- <collision>
      <origin rpy="0 0.0 0" xyz="0.0 0 0"/>
      <geometry>
        <cylinder length="0.00975" radius="0.025"/>
      </geometry>
    </collision> -->
  </link>
  <joint name="wrist_left_tool_joint" type="fixed">
    <parent link="wrist_left_ft_link"/>
    <child link="wrist_left_ft_tool_link"/>
    <origin rpy="0 0 4.71238898038" xyz="0 0 -0.012725"/>
  </joint>
  <link name="gripper_left_base_link">
    <inertial>
      <mass value="0.637534"/>
      <inertia ixx="0.0005849692" ixy="4.37159e-06" ixz="-1.2589e-05" iyy="0.00067076439" iyz="2.824361e-05" izz="0.00085526645"/>
      <origin rpy="0 0 0" xyz="2.8e-05 0.005394 -0.023654"/>
    </inertial>
    <visual>
      <origin rpy="0 0 0" xyz="0 0 0"/>
      <geometry>
        <mesh filename="package://talos_description/meshes/gripper/base_link.glb" scale="1 1 1"/>
      </geometry>
      <material name="DarkGrey"/>
    </visual>
    <!-- <collision>
      <origin rpy="0 0 0" xyz="0 0 0"/>
      <geometry>
        <mesh filename="package://talos_description/meshes/gripper/base_link_collision.glb" scale="1 1 1"/>
      </geometry>
    </collision> -->
  </link>
  <joint name="gripper_left_base_link_joint" type="fixed">
    <parent link="wrist_left_ft_tool_link"/>
    <child link="gripper_left_base_link"/>
    <origin rpy="0.0 0.0 0.0" xyz="0.00000 0.00000 -0.02875"/>
  </joint>
  <link name="gripper_left_motor_double_link">
    <inertial>
      <mass value="0.134356"/>
      <inertia ixx="0.00013479919" ixy="6.184429e-05" ixz="-3.0798e-05" iyy="0.00019602207" iyz="4.707722e-05" izz="0.00024217879"/>
      <origin rpy="0 0 0" xyz="0.019654 0.018572 -0.011998"/>
    </inertial>
    <visual>
      <origin rpy="0 0 0" xyz="0 0 0"/>
      <geometry>
        <mesh filename="package://talos_description/meshes/gripper/gripper_motor_double.glb" scale="1 1 1"/>
      </geometry>
      <material name="Red"/>
    </visual>
    <!-- <collision>
      <origin rpy="0 0 0" xyz="0 0 0"/>
      <geometry>
        <mesh filename="package://talos_description/meshes/gripper/gripper_motor_double_collision.glb" scale="1 1 1"/>
      </geometry>
    </collision> -->
  </link>
  <joint name="gripper_left_joint" type="revolute">
    <parent link="gripper_left_base_link"/>
    <child link="gripper_left_motor_double_link"/>
    <origin rpy="0.0 0.0 0.0" xyz="0.0 0.02025 -0.03"/>
    <axis xyz="1 0 0"/>
    <limit effort="1.0" lower="-0.959931088597" upper="0.0" velocity="1.0"/>
    <dynamics damping="1.0" friction="1.0"/>
  </joint>
  <link name="gripper_left_inner_double_link">
    <inertial>
      <mass value="0.087986"/>
      <inertia ixx="7.410642e-05" ixy="-7.4773e-07" ixz="1.01536e-06" iyy="0.0001279418" iyz="2.504083e-05" izz="0.00010495175"/>
      <origin rpy="0 0 0" xyz="-0.013283 0.036852 -0.023153"/>
    </inertial>
    <visual>
      <origin rpy="0 0 0" xyz="0 0 0"/>
      <geometry>
        <mesh filename="package://talos_description/meshes/gripper/inner_double.glb" scale="1 1 1"/>
      </geometry>
      <material name="Red"/>
    </visual>
    <!-- <collision>
      <origin rpy="0 0 0" xyz="0 0 0"/>
      <geometry>
        <mesh filename="package://talos_description/meshes/gripper/inner_double_collision.glb" scale="1 1 1"/>
      </geometry>
    </collision> -->
  </link>
  <joint name="gripper_left_inner_double_joint" type="fixed">
    <parent link="gripper_left_base_link"/>
    <child link="gripper_left_inner_double_link"/>
    <origin rpy="0.0 0.0 0.0" xyz="0.00000 0.00525 -0.05598"/>
    <axis xyz="1 0 0"/>
    <limit effort="100.0" lower="-1.0471975512" upper="0.0" velocity="1.0"/>
    <!-- <mimic joint="gripper_left_joint" multiplier="1.0" offset="0.0"/> -->
  </joint>
  <link name="gripper_left_fingertip_1_link">
    <inertial>
      <mass value="0.026301"/>
      <inertia ixx="8e-06" ixy="0" ixz="0" iyy="8.69179e-06" iyz="-1.43612e-06" izz="2.3082e-06"/>
      <origin rpy="0 0 0" xyz="0 0.004604 -0.002537"/>
    </inertial>
    <visual>
      <origin rpy="0 0 0" xyz="0 0 0"/>
      <geometry>
        <mesh filename="package://talos_description/meshes/gripper/fingertip.glb" scale="1 1 1"/>
      </geometry>
      <material name="DarkGrey"/>
    </visual>
    <!-- <collision>
      <origin rpy="0 0 0" xyz="0 0 0"/>
      <geometry>
        <mesh filename="package://talos_description/meshes/gripper/fingertip_collision.glb" scale="1 1 1"/>
      </geometry>
    </collision> -->
  </link>
  <joint name="gripper_left_fingertip_1_joint" type="fixed">
    <parent link="gripper_left_inner_double_link"/>
    <child link="gripper_left_fingertip_1_link"/>
    <origin rpy="0.0 0.0 0.0" xyz="0.03200 0.04589 -0.06553"/>
    <axis xyz="1 0 0"/>
    <limit effort="100.0" lower="0.0" upper="1.0471975512" velocity="1.0"/>
    <!-- <mimic joint="gripper_left_joint" multiplier="-1.0" offset="0.0"/> -->
  </joint>
  <link name="gripper_left_fingertip_2_link">
    <inertial>
      <mass value="0.026301"/>
      <inertia ixx="8e-06" ixy="0" ixz="0" iyy="8.69179e-06" iyz="-1.43612e-06" izz="2.3082e-06"/>
      <origin rpy="0 0 0" xyz="0 0.004604 -0.002537"/>
    </inertial>
    <visual>
      <origin rpy="0 0 0" xyz="0 0 0"/>
      <geometry>
        <mesh filename="package://talos_description/meshes/gripper/fingertip.glb" scale="1 1 1"/>
      </geometry>
      <material name="DarkGrey"/>
    </visual>
    <!-- <collision>
      <origin rpy="0 0 0" xyz="0 0 0"/>
      <geometry>
        <mesh filename="package://talos_description/meshes/gripper/fingertip_collision.glb" scale="1 1 1"/>
      </geometry>
    </collision> -->
  </link>
  <joint name="gripper_left_fingertip_2_joint" type="fixed">
    <parent link="gripper_left_inner_double_link"/>
    <child link="gripper_left_fingertip_2_link"/>
    <origin rpy="0.0 0.0 0.0" xyz="-0.03200 0.04589 -0.06553"/>
    <axis xyz="1 0 0"/>
    <limit effort="100.0" lower="0.0" upper="1.0471975512" velocity="1.0"/>
    <!-- <mimic joint="gripper_left_joint" multiplier="-1.0" offset="0.0"/> -->
  </joint>
  <link name="gripper_left_motor_single_link">
    <inertial>
      <mass value="0.107923"/>
      <inertia ixx="8.973662e-05" ixy="-4.082027e-05" ixz="-1.927099e-05" iyy="0.00011957255" iyz="-2.873284e-05" izz="0.00015469079"/>
      <origin rpy="0 0 0" xyz="0.025237 -0.011231 -0.008158"/>
    </inertial>
    <visual>
      <origin rpy="0 0 0" xyz="0 0 0"/>
      <geometry>
        <mesh filename="package://talos_description/meshes/gripper/gripper_motor_single.glb" scale="1 1 1"/>
      </geometry>
      <material name="Red"/>
    </visual>
    <!-- <collision>
      <origin rpy="0 0 0" xyz="0 0 0"/>
      <geometry>
        <mesh filename="package://talos_description/meshes/gripper/gripper_motor_single_collision.glb" scale="1 1 1"/>
      </geometry>
    </collision> -->
  </link>
  <joint name="gripper_left_motor_single_joint" type="fixed">
    <parent link="gripper_left_base_link"/>
    <child link="gripper_left_motor_single_link"/>
    <origin rpy="0.0 0.0 0.0" xyz="0.00000 -0.02025 -0.03000"/>
    <axis xyz="1 0 0"/>
    <limit effort="100.0" lower="0.0" upper="1.0471975512" velocity="1.0"/>
    <!-- <mimic joint="gripper_left_joint" multiplier="-1.0" offset="0.0"/> -->
  </joint>
  <link name="gripper_left_inner_single_link">
    <inertial>
      <mass value="0.047177"/>
      <inertia ixx="4.199818e-05" ixy="1.3418e-07" ixz="1.9358e-07" iyy="3.231338e-05" iyz="-1.509136e-05" izz="2.168842e-05"/>
      <origin rpy="0 0 0" xyz="0 -0.034565 -0.021412"/>
    </inertial>
    <visual>
      <origin rpy="0 0 0" xyz="0 0 0"/>
      <geometry>
        <mesh filename="package://talos_description/meshes/gripper/inner_single.glb" scale="1 1 1"/>
      </geometry>
      <material name="Red"/>
    </visual>
    <!-- <collision>
      <origin rpy="0 0 0" xyz="0 0 0"/>
      <geometry>
        <mesh filename="package://talos_description/meshes/gripper/inner_single_collision.glb" scale="1 1 1"/>
      </geometry>
    </collision> -->
  </link>
  <joint name="gripper_left_inner_single_joint" type="fixed">
    <parent link="gripper_left_base_link"/>
    <child link="gripper_left_inner_single_link"/>
    <origin rpy="0.0 0.0 0.0" xyz="0.00000 -0.00525 -0.05598"/>
    <axis xyz="1 0 0"/>
    <limit effort="100.0" lower="0.0" upper="1.0471975512" velocity="1.0"/>
    <!-- <mimic joint="gripper_left_joint" multiplier="-1.0" offset="0.0"/> -->
  </joint>
  <link name="gripper_left_fingertip_3_link">
    <inertial>
      <mass value="0.026301"/>
      <inertia ixx="8e-06" ixy="0" ixz="0" iyy="8.69179e-06" iyz="-1.43612e-06" izz="2.3082e-06"/>
      <origin rpy="0 0 0" xyz="0 0.004604 -0.002537"/>
    </inertial>
    <visual>
      <origin rpy="0 0 0" xyz="0 0 0"/>
      <geometry>
        <mesh filename="package://talos_description/meshes/gripper/fingertip.glb" scale="1 1 1"/>
      </geometry>
      <material name="DarkGrey"/>
    </visual>
    <!-- <collision>
      <origin rpy="0 0 0" xyz="0 0 0"/>
      <geometry>
        <mesh filename="package://talos_description/meshes/gripper/fingertip_collision.glb" scale="1 1 1"/>
      </geometry>
    </collision> -->
  </link>
  <joint name="gripper_left_fingertip_3_joint" type="fixed">
    <parent link="gripper_left_inner_single_link"/>
    <child link="gripper_left_fingertip_3_link"/>
    <origin rpy="0.0 0.0 3.14159265359" xyz="0.00000 -0.04589 -0.06553"/>
    <axis xyz="1 0 0"/>
    <limit effort="100.0" lower="0.0" upper="1.0471975512" velocity="1.0"/>
    <!-- <mimic joint="gripper_left_joint" multiplier="-1.0" offset="0.0"/> -->
  </joint>
  <!-- virtual mimic joints -->
  <!--         <xacro:gripper_virtual_transmission name="${name}_inner_double" reduction="1.0"/>
        <xacro:gripper_virtual_transmission name="${name}_fingertip_1" reduction="1.0"/>
        <xacro:gripper_virtual_transmission name="${name}_fingertip_2" reduction="1.0"/>
        <xacro:gripper_virtual_transmission name="${name}_inner_single" reduction="1.0"/>
        <xacro:gripper_virtual_transmission name="${name}_motor_single" reduction="1.0"/>
        <xacro:gripper_virtual_transmission name="${name}_fingertip_3" reduction="1.0"/> -->
  <link name="gripper_right_base_link">
    <inertial>
      <mass value="0.637534"/>
      <inertia ixx="0.0005849692" ixy="4.37159e-06" ixz="-1.2589e-05" iyy="0.00067076439" iyz="2.824361e-05" izz="0.00085526645"/>
      <origin rpy="0 0 0" xyz="2.8e-05 0.005394 -0.023654"/>
    </inertial>
    <visual>
      <origin rpy="0 0 0" xyz="0 0 0"/>
      <geometry>
        <mesh filename="package://talos_description/meshes/gripper/base_link.glb" scale="1 1 1"/>
      </geometry>
      <material name="DarkGrey"/>
    </visual>
    <!-- <collision>
      <origin rpy="0 0 0" xyz="0 0 0"/>
      <geometry>
        <mesh filename="package://talos_description/meshes/gripper/base_link_collision.glb" scale="1 1 1"/>
      </geometry>
    </collision> -->
  </link>
  <joint name="gripper_right_base_link_joint" type="fixed">
    <parent link="wrist_right_ft_tool_link"/>
    <child link="gripper_right_base_link"/>
    <origin rpy="0.0 0.0 0.0" xyz="0.00000 0.00000 -0.02875"/>
  </joint>
  <link name="gripper_right_motor_double_link">
    <inertial>
      <mass value="0.134356"/>
      <inertia ixx="0.00013479919" ixy="6.184429e-05" ixz="-3.0798e-05" iyy="0.00019602207" iyz="4.707722e-05" izz="0.00024217879"/>
      <origin rpy="0 0 0" xyz="0.019654 0.018572 -0.011998"/>
    </inertial>
    <visual>
      <origin rpy="0 0 0" xyz="0 0 0"/>
      <geometry>
        <mesh filename="package://talos_description/meshes/gripper/gripper_motor_double.glb" scale="1 1 1"/>
      </geometry>
      <material name="Red"/>
    </visual>
    <!-- <collision>
      <origin rpy="0 0 0" xyz="0 0 0"/>
      <geometry>
        <mesh filename="package://talos_description/meshes/gripper/gripper_motor_double_collision.glb" scale="1 1 1"/>
      </geometry>
    </collision> -->
  </link>
  <joint name="gripper_right_joint" type="revolute">
    <parent link="gripper_right_base_link"/>
    <child link="gripper_right_motor_double_link"/>
    <origin rpy="0.0 0.0 0.0" xyz="0.0 0.02025 -0.03"/>
    <axis xyz="1 0 0"/>
    <limit effort="1.0" lower="-0.959931088597" upper="0.0" velocity="1.0"/>
    <dynamics damping="1.0" friction="1.0"/>
  </joint>
  <link name="gripper_right_inner_double_link">
    <inertial>
      <mass value="0.087986"/>
      <inertia ixx="7.410642e-05" ixy="-7.4773e-07" ixz="1.01536e-06" iyy="0.0001279418" iyz="2.504083e-05" izz="0.00010495175"/>
      <origin rpy="0 0 0" xyz="-0.013283 0.036852 -0.023153"/>
    </inertial>
    <visual>
      <origin rpy="0 0 0" xyz="0 0 0"/>
      <geometry>
        <mesh filename="package://talos_description/meshes/gripper/inner_double.glb" scale="1 1 1"/>
      </geometry>
      <material name="Red"/>
    </visual>
    <!-- <collision>
      <origin rpy="0 0 0" xyz="0 0 0"/>
      <geometry>
      <mesh filename="package://talos_description/meshes/gripper/inner_double_collision.glb" scale="1 1 1"/>
      </geometry>
    </collision> -->
  </link>
  <joint name="gripper_right_inner_double_joint" type="fixed">
    <parent link="gripper_right_base_link"/>
    <child link="gripper_right_inner_double_link"/>
    <origin rpy="0.0 0.0 0.0" xyz="0.00000 0.00525 -0.05598"/>
    <axis xyz="1 0 0"/>
    <limit effort="100.0" lower="-1.0471975512" upper="0.0" velocity="1.0"/>
    <!-- <mimic joint="gripper_right_joint" multiplier="1.0" offset="0.0"/> -->
  </joint>
  <link name="gripper_right_fingertip_1_link">
    <inertial>
      <mass value="0.026301"/>
      <inertia ixx="8e-06" ixy="0" ixz="0" iyy="8.69179e-06" iyz="-1.43612e-06" izz="2.3082e-06"/>
      <origin rpy="0 0 0" xyz="0 0.004604 -0.002537"/>
    </inertial>
    <visual>
      <origin rpy="0 0 0" xyz="0 0 0"/>
      <geometry>
        <mesh filename="package://talos_description/meshes/gripper/fingertip.glb" scale="1 1 1"/>
      </geometry>
      <material name="DarkGrey"/>
    </visual>
    <!-- <collision>
      <origin rpy="0 0 0" xyz="0 0 0"/>
      <geometry>
        <mesh filename="package://talos_description/meshes/gripper/fingertip_collision.glb" scale="1 1 1"/>
      </geometry>
    </collision> -->
  </link>
  <joint name="gripper_right_fingertip_1_joint" type="fixed">
    <parent link="gripper_right_inner_double_link"/>
    <child link="gripper_right_fingertip_1_link"/>
    <origin rpy="0.0 0.0 0.0" xyz="0.03200 0.04589 -0.06553"/>
    <axis xyz="1 0 0"/>
    <limit effort="100.0" lower="0.0" upper="1.0471975512" velocity="1.0"/>
    <!-- <mimic joint="gripper_right_joint" multiplier="-1.0" offset="0.0"/> -->
  </joint>
  <link name="gripper_right_fingertip_2_link">
    <inertial>
      <mass value="0.026301"/>
      <inertia ixx="8e-06" ixy="0" ixz="0" iyy="8.69179e-06" iyz="-1.43612e-06" izz="2.3082e-06"/>
      <origin rpy="0 0 0" xyz="0 0.004604 -0.002537"/>
    </inertial>
    <visual>
      <origin rpy="0 0 0" xyz="0 0 0"/>
      <geometry>
        <mesh filename="package://talos_description/meshes/gripper/fingertip.glb" scale="1 1 1"/>
      </geometry>
      <material name="DarkGrey"/>
    </visual>
    <!-- <collision>
      <origin rpy="0 0 0" xyz="0 0 0"/>
      <geometry>
        <mesh filename="package://talos_description/meshes/gripper/fingertip_collision.glb" scale="1 1 1"/>
      </geometry>
    </collision> -->
  </link>
  <joint name="gripper_right_fingertip_2_joint" type="fixed">
    <parent link="gripper_right_inner_double_link"/>
    <child link="gripper_right_fingertip_2_link"/>
    <origin rpy="0.0 0.0 0.0" xyz="-0.03200 0.04589 -0.06553"/>
    <axis xyz="1 0 0"/>
    <limit effort="100.0" lower="0.0" upper="1.0471975512" velocity="1.0"/>
    <!-- <mimic joint="gripper_right_joint" multiplier="-1.0" offset="0.0"/> -->
  </joint>
  <link name="gripper_right_motor_single_link">
    <inertial>
      <mass value="0.107923"/>
      <inertia ixx="8.973662e-05" ixy="-4.082027e-05" ixz="-1.927099e-05" iyy="0.00011957255" iyz="-2.873284e-05" izz="0.00015469079"/>
      <origin rpy="0 0 0" xyz="0.025237 -0.011231 -0.008158"/>
    </inertial>
    <visual>
      <origin rpy="0 0 0" xyz="0 0 0"/>
      <geometry>
        <mesh filename="package://talos_description/meshes/gripper/gripper_motor_single.glb" scale="1 1 1"/>
      </geometry>
      <material name="Red"/>
    </visual>
    <!-- <collision>
      <origin rpy="0 0 0" xyz="0 0 0"/>
      <geometry>
        <mesh filename="package://talos_description/meshes/gripper/gripper_motor_single_collision.glb" scale="1 1 1"/>
      </geometry>
    </collision> -->
  </link>
  <joint name="gripper_right_motor_single_joint" type="fixed">
    <parent link="gripper_right_base_link"/>
    <child link="gripper_right_motor_single_link"/>
    <origin rpy="0.0 0.0 0.0" xyz="0.00000 -0.02025 -0.03000"/>
    <axis xyz="1 0 0"/>
    <limit effort="100.0" lower="0.0" upper="1.0471975512" velocity="1.0"/>
    <!-- <mimic joint="gripper_right_joint" multiplier="-1.0" offset="0.0"/> -->
  </joint>
  <link name="gripper_right_inner_single_link">
    <inertial>
      <mass value="0.047177"/>
      <inertia ixx="4.199818e-05" ixy="1.3418e-07" ixz="1.9358e-07" iyy="3.231338e-05" iyz="-1.509136e-05" izz="2.168842e-05"/>
      <origin rpy="0 0 0" xyz="0 -0.034565 -0.021412"/>
    </inertial>
    <visual>
      <origin rpy="0 0 0" xyz="0 0 0"/>
      <geometry>
        <mesh filename="package://talos_description/meshes/gripper/inner_single.glb" scale="1 1 1"/>
      </geometry>
      <material name="Red"/>
    </visual>
    <!-- <collision>
      <origin rpy="0 0 0" xyz="0 0 0"/>
      <geometry>
        <mesh filename="package://talos_description/meshes/gripper/inner_single_collision.glb" scale="1 1 1"/>
      </geometry>
    </collision> -->
  </link>
  <joint name="gripper_right_inner_single_joint" type="fixed">
    <parent link="gripper_right_base_link"/>
    <child link="gripper_right_inner_single_link"/>
    <origin rpy="0.0 0.0 0.0" xyz="0.00000 -0.00525 -0.05598"/>
    <axis xyz="1 0 0"/>
    <limit effort="100.0" lower="0.0" upper="1.0471975512" velocity="1.0"/>
    <!-- <mimic joint="gripper_right_joint" multiplier="-1.0" offset="0.0"/> -->
  </joint>
  <link name="gripper_right_fingertip_3_link">
    <inertial>
      <mass value="0.026301"/>
      <inertia ixx="8e-06" ixy="0" ixz="0" iyy="8.69179e-06" iyz="-1.43612e-06" izz="2.3082e-06"/>
      <origin rpy="0 0 0" xyz="0 0.004604 -0.002537"/>
    </inertial>
    <visual>
      <origin rpy="0 0 0" xyz="0 0 0"/>
      <geometry>
        <mesh filename="package://talos_description/meshes/gripper/fingertip.glb" scale="1 1 1"/>
      </geometry>
      <material name="DarkGrey"/>
    </visual>
    <!-- <collision>
      <origin rpy="0 0 0" xyz="0 0 0"/>
      <geometry>
        <mesh filename="package://talos_description/meshes/gripper/fingertip_collision.glb" scale="1 1 1"/>
      </geometry>
    </collision> -->
  </link>
  <joint name="gripper_right_fingertip_3_joint" type="fixed">
    <parent link="gripper_right_inner_single_link"/>
    <child link="gripper_right_fingertip_3_link"/>
    <origin rpy="0.0 0.0 3.14159265359" xyz="0.00000 -0.04589 -0.06553"/>
    <axis xyz="1 0 0"/>
    <limit effort="100.0" lower="0.0" upper="1.0471975512" velocity="1.0"/>
    <!-- <mimic joint="gripper_right_joint" multiplier="-1.0" offset="0.0"/> -->
  </joint>
  <!-- virtual mimic joints -->
  <!--         <xacro:gripper_virtual_transmission name="${name}_inner_double" reduction="1.0"/>
        <xacro:gripper_virtual_transmission name="${name}_fingertip_1" reduction="1.0"/>
        <xacro:gripper_virtual_transmission name="${name}_fingertip_2" reduction="1.0"/>
        <xacro:gripper_virtual_transmission name="${name}_inner_single" reduction="1.0"/>
        <xacro:gripper_virtual_transmission name="${name}_motor_single" reduction="1.0"/>
        <xacro:gripper_virtual_transmission name="${name}_fingertip_3" reduction="1.0"/> -->
  <!-- Joint hip_z (mesh link) : child link hip_x -> parent link base_link -->
  <link name="leg_left_1_link">
    <inertial>
      <mass value="1.845591"/>
      <inertia ixx="0.00541533521" ixy="-0.00015428714" ixz="0.00131612622" iyy="0.00848624936" iyz="-1.906103e-05" izz="0.00474512541"/>
      <origin rpy="0 0 0" xyz="0.02247868 0.00106736 0.03130665"/>
    </inertial>
    <visual>
      <origin rpy="0 0 0" xyz="0.01 0.01 0.01"/>
      <geometry>
        <box size="0.2 0.12 0.13"/>
      </geometry>
      <material name="DarkGrey"/>
    </visual>
    <collision>
      <origin rpy="0 0 0" xyz="0.01 0.01 0.01"/>
      <geometry>
        <box size="0.2 0.12 0.13"/>
        <!-- <mesh filename="package://talos_description/meshes/v2/hip_z_collision.stl" scale="1 1 1"/> -->
      </geometry>
    </collision>
  </link>
  <joint name="leg_left_1_joint" type="revolute">
    <parent link="base_link"/>
    <child link="leg_left_1_link"/>
    <origin rpy="0.0 0.0 0.0" xyz="-0.02 0.085 -0.27105"/>
    <axis xyz="0 0 1"/>
    <limit effort="100" lower="-0.349065850399" upper="1.57079632679" velocity="3.87"/>
    <dynamics damping="0.0" friction="0.0"/>
  </joint>
  <!-- Joint hip_x (mesh link) : child link hip_y -> parent link hip_z -->
  <link name="leg_left_2_link">
    <inertial>
      <mass value="1.490952"/>
      <inertia ixx="0.00497152259" ixy="-0.0001311358" ixz="-4.86648e-06" iyy="0.00190550993" iyz="4.585381e-05" izz="0.00474289754"/>
      <origin rpy="0 0 0" xyz="-0.00704703 0.02592659 0.00273385"/>
    </inertial>
    <visual>
      <origin rpy="0  0  0" xyz="0.0 0.06 0.015"/>
      <geometry>
        <box size="0.13 0.28 0.14"/>
      </geometry>
      <material name="DarkGrey"/>
    </visual>
    <collision>
      <origin rpy="0  0  0" xyz="0.0 0.06 0.015"/>
      <geometry>
        <box size="0.13 0.28 0.14"/>
        <!-- <mesh filename="package://talos_description/meshes/v2/hip_x_collision.stl" scale="1 1 1"/> -->
      </geometry>
    </collision>
  </link>
  <joint name="leg_left_2_joint" type="revolute">
    <parent link="leg_left_1_link"/>
    <child link="leg_left_2_link"/>
    <origin rpy="0.0 0.0 0.0" xyz="0.00000 0.00000 0.00000"/>
    <axis xyz="1 0 0"/>
    <limit effort="160" lower="-0.5236" upper="0.5236" velocity="5.8"/>
    <dynamics damping="0.0" friction="0.0"/>
  </joint>
  <!-- Joint hip_y (mesh link) : child link knee -> parent link hip_x -->
  <link name="leg_left_3_link">
    <inertial>
      <mass value="6.239871"/>
      <inertia ixx="0.15337403915" ixy="0.00068913396" ixz="0.00168034366" iyy="0.13648139346" iyz="-0.02187635445" izz="0.03001594885"/>
      <origin rpy="0 0 0" xyz="0.0058523 0.0636967 -0.18339564"/>
    </inertial>
    <visual>
      <origin rpy="0 0 0" xyz="0.0 0.06 -0.25"/>
      <geometry>
        <box size="0.15 0.27 0.39"/>
      </geometry>
      <material name="DarkGrey"/>
    </visual>
    <collision>
      <origin rpy="0 0 0" xyz="0.0 0.06 -0.25"/>
      <geometry>
        <box size="0.15 0.27 0.39"/>
        <!-- <mesh filename="package://talos_description/meshes/v2/hip_y_collision.stl" scale="1 1 1"/> -->
      </geometry>
    </collision>
  </link>
  <joint name="leg_left_3_joint" type="revolute">
    <parent link="leg_left_2_link"/>
    <child link="leg_left_3_link"/>
    <origin rpy="0.0 0.0 0.0" xyz="0.00000 0.00000 0.00000"/>
    <axis xyz="0 1 0"/>
    <limit effort="160" lower="-2.095" upper="0.7" velocity="5.8"/>
    <dynamics damping="0.0" friction="0.0"/>
  </joint>
  <!-- Joint knee (mesh link) : child link ankle_y -> parent link hip_y -->
  <link name="leg_left_4_link">
    <inertial>
      <mass value="3.759951"/>
      <inertia ixx="0.04287677484" ixy="0.00043705397" ixz="0.00078292368" iyy="0.03598906971" iyz="0.00037717694" izz="0.01364791564"/>
      <origin rpy="0 0 0" xyz="0.01317717 0.02917508 -0.11594602"/>
    </inertial>
    <visual>
      <origin rpy="0 0 0" xyz="0.01 0.04 -0.17"/>
      <geometry>
        <box size="0.12 0.22 0.21"/>
      </geometry>
      <material name="DarkGrey"/>
    </visual>
    <collision>
      <origin rpy="0 0 0" xyz="0.01 0.04 -0.17"/>
      <geometry>
        <box size="0.12 0.22 0.21"/>
        <!-- <mesh filename="package://talos_description/meshes/v2/knee_collision.stl" scale="1 1 1"/> -->
      </geometry>
    </collision>
  </link>
  <joint name="leg_left_4_joint" type="revolute">
    <parent link="leg_left_3_link"/>
    <child link="leg_left_4_link"/>
    <origin rpy="0.0 0.0 0.0" xyz="0.00000 0.00000 -0.38000"/>
    <axis xyz="0 1 0"/>
    <limit effort="400" lower="0" upper="2.618" velocity="7"/>
    <dynamics damping="0.0" friction="0.0"/>
  </joint>
  <!-- Joint ankle_y (mesh link) : child link ankle_x -> parent link knee -->
  <link name="leg_left_5_link">
    <inertial>
      <mass value="1.29096"/>
      <inertia ixx="0.01143430819" ixy="0.00096978273" ixz="0.00039976581" iyy="0.00888974312" iyz="-0.00277808667" izz="0.00506373875"/>
      <origin rpy="0 0 0" xyz="-0.01400838 0.04180064 0.03820186"/>
    </inertial>
    <visual>
      <origin rpy="0 0 0" xyz="-0.02 0.04 0.0"/>
      <geometry>
        <box size="0.14 0.22 0.1"/>
      </geometry>
      <material name="White"/>
    </visual>
    <collision>
      <origin rpy="0 0 0" xyz="-0.02 0.04 0.0"/>
      <geometry>
        <box size="0.14 0.22 0.1"/>
        <!-- <mesh filename="package://talos_description/meshes/v2/ankle_Y_collision.stl" scale="1 1 1"/> -->
      </geometry>
    </collision>
  </link>
  <joint name="leg_left_5_joint" type="revolute">
    <parent link="leg_left_4_link"/>
    <child link="leg_left_5_link"/>
    <origin rpy="0.0 0.0 0.0" xyz="0.00000 0.00000 -0.32500"/>
    <axis xyz="0 1 0"/>
    <limit effort="160" lower="-1.27" upper="0.68" velocity="5.8"/>
    <dynamics damping="0.0" friction="0.0"/>
  </joint>
  <!-- Joint ankle_x (mesh link) : child link None -> parent link ankle_y -->
  <link name="leg_left_6_link">
    <inertial>
      <mass value="1.597773"/>
      <inertia ixx="0.00439027267" ixy="-6.743674e-05" ixz="0.00113816363" iyy="0.00743063029" iyz="3.943143e-05" izz="0.00550906699"/>
      <origin rpy="0 0 0" xyz="-0.02034668 -0.00051514 -0.05987428"/>
    </inertial>
    <visual>
      <origin rpy="0 0 0" xyz="0 0 -0.03"/>
      <geometry>
        <box size="0.221 0.134 0.16"/>
      </geometry>
      <material name="White"/>
    </visual>
    <collision>
      <origin rpy="0 0 0" xyz="0 0 -0.03"/>
      <geometry>
            <box size="0.221 0.134 0.16"/>
<!--        <mesh filename="package://talos_description/meshes/v2/ankle_X_collision.glb" scale="1 -1 1"/>-->
      </geometry>
    </collision>
  </link>
  <joint name="leg_left_6_joint" type="revolute">
    <parent link="leg_left_5_link"/>
    <child link="leg_left_6_link"/>
    <origin rpy="0.0 0.0 0.0" xyz="0.00000 0.00000 0.00000"/>
    <axis xyz="1 0 0"/>
    <limit effort="100" lower="-0.5236" upper="0.5236" velocity="4.8"/>
    <dynamics damping="0.0" friction="0.0"/>
  </joint>
  <!-- from here is copy paste -->
  <link name="left_sole_link">
    <inertial>
      <mass value="0.01"/>
      <inertia ixx="0.0001" ixy="0" ixz="0" iyy="0.0001" iyz="0" izz="0.0001"/>
      <origin rpy="0 0 0" xyz="0 0 0"/>
    </inertial>
  </link>
  <joint name="leg_left_sole_fix_joint" type="fixed">
    <parent link="leg_left_6_link"/>
    <child link="left_sole_link"/>
    <origin rpy="0 0 0" xyz="0.00 0.00 -0.107"/>
    <axis xyz="1 0 0"/>
    <dynamics damping="0.0" friction="0.0"/>
  </joint>
  <!-- Joint hip_z (mesh link) : child link hip_x -> parent link base_link -->
  <link name="leg_right_1_link">
    <inertial>
      <mass value="1.845591"/>
      <inertia ixx="0.00541533521" ixy="0.00015428714" ixz="0.00131612622" iyy="0.00848624936" iyz="1.906103e-05" izz="0.00474512541"/>
      <origin rpy="0 0 0" xyz="0.02247868 -0.00106736 0.03130665"/>
    </inertial>
    <visual>
      <origin rpy="0 0 0" xyz="0.01 -0.01 0.01"/>
      <geometry>
        <box size="0.2 0.12 0.13"/>
      </geometry>
      <material name="DarkGrey"/>
    </visual>
    <collision>
      <origin rpy="0 0 0" xyz="0.01 -0.01 0.01"/>
      <geometry>
        <box size="0.2 0.12 0.13"/>
        <!-- <mesh filename="package://talos_description/meshes/v2/hip_z_collision.stl" scale="1 -1 1"/> -->
      </geometry>
    </collision>
  </link>
  <joint name="leg_right_1_joint" type="revolute">
    <parent link="base_link"/>
    <child link="leg_right_1_link"/>
    <origin rpy="0.0 0.0 0.0" xyz="-0.02 -0.085 -0.27105"/>
    <axis xyz="0 0 1"/>
    <limit effort="100" lower="-1.57079632679" upper="0.349065850399" velocity="3.87"/>
    <dynamics damping="0.0" friction="0.0"/>
  </joint>
  <!-- Joint hip_x (mesh link) : child link hip_y -> parent link hip_z -->
  <link name="leg_right_2_link">
    <inertial>
      <mass value="1.490952"/>
      <inertia ixx="0.00497152259" ixy="0.0001311358" ixz="-4.86648e-06" iyy="0.00190550993" iyz="-4.585381e-05" izz="0.00474289754"/>
      <origin rpy="0 0 0" xyz="-0.00704703 -0.02592659 0.00273385"/>
    </inertial>
    <visual>
      <origin rpy="0  0  0" xyz="0.0 -0.06 0.015"/>
      <geometry>
        <box size="0.13 0.28 0.14"/>
      </geometry>
      <material name="DarkGrey"/>
    </visual>
    <collision>
      <origin rpy="0  0  0" xyz="0.0 -0.06 0.015"/>
      <geometry>
        <box size="0.13 0.28 0.14"/>
        <!-- <mesh filename="package://talos_description/meshes/v2/hip_x_collision.stl" scale="1 -1 1"/> -->
      </geometry>
    </collision>
  </link>
  <joint name="leg_right_2_joint" type="revolute">
    <parent link="leg_right_1_link"/>
    <child link="leg_right_2_link"/>
    <origin rpy="0.0 0.0 0.0" xyz="0.00000 0.00000 0.00000"/>
    <axis xyz="1 0 0"/>
    <limit effort="160" lower="-0.5236" upper="0.5236" velocity="5.8"/>
    <dynamics damping="0.0" friction="0.0"/>
  </joint>
  <!-- Joint hip_y (mesh link) : child link knee -> parent link hip_x -->
  <link name="leg_right_3_link">
    <inertial>
      <mass value="6.239871"/>
      <inertia ixx="0.15337403915" ixy="-0.00068913396" ixz="0.00168034366" iyy="0.13648139346" iyz="0.02187635445" izz="0.03001594885"/>
      <origin rpy="0 0 0" xyz="0.0058523 -0.0636967 -0.18339564"/>
    </inertial>
    <visual>
      <origin rpy="0 0 0" xyz="0.0 -0.06 -0.25"/>
      <geometry>
        <box size="0.15 0.27 0.39"/>
      </geometry>
      <material name="DarkGrey"/>
    </visual>
    <collision>
      <origin rpy="0 0 0" xyz="0.0 -0.06 -0.25"/>
      <geometry>
        <box size="0.15 0.27 0.39"/>
        <!-- <mesh filename="package://talos_description/meshes/v2/hip_y_collision.stl" scale="1 -1 1"/> -->
      </geometry>
    </collision>
  </link>
  <joint name="leg_right_3_joint" type="revolute">
    <parent link="leg_right_2_link"/>
    <child link="leg_right_3_link"/>
    <origin rpy="0.0 0.0 0.0" xyz="0.00000 0.00000 0.00000"/>
    <axis xyz="0 1 0"/>
    <limit effort="160" lower="-2.095" upper="0.7" velocity="5.8"/>
    <dynamics damping="0.0" friction="0.0"/>
  </joint>
  <!-- Joint knee (mesh link) : child link ankle_y -> parent link hip_y -->
  <link name="leg_right_4_link">
    <inertial>
      <mass value="3.759951"/>
      <inertia ixx="0.04287677484" ixy="-0.00043705397" ixz="0.00078292368" iyy="0.03598906971" iyz="-0.00037717694" izz="0.01364791564"/>
      <origin rpy="0 0 0" xyz="0.01317717 -0.02917508 -0.11594602"/>
    </inertial>
    <visual>
      <origin rpy="0 0 0" xyz="0.01 -0.04 -0.17"/>
      <geometry>
        <box size="0.12 -0.22 0.21"/>
      </geometry>
      <material name="DarkGrey"/>
    </visual>
    <collision>
      <origin rpy="0 0 0" xyz="0.01 -0.04 -0.17"/>
      <geometry>
        <box size="0.12 -0.22 0.21"/>
        <!-- <mesh filename="package://talos_description/meshes/v2/knee_collision.stl" scale="1 -1 1"/> -->
      </geometry>
    </collision>
  </link>
  <joint name="leg_right_4_joint" type="revolute">
    <parent link="leg_right_3_link"/>
    <child link="leg_right_4_link"/>
    <origin rpy="0.0 0.0 0.0" xyz="0.00000 0.00000 -0.38000"/>
    <axis xyz="0 1 0"/>
    <limit effort="400" lower="0" upper="2.618" velocity="7"/>
    <dynamics damping="0.0" friction="0.0"/>
  </joint>
  <!-- Joint ankle_y (mesh link) : child link ankle_x -> parent link knee -->
  <link name="leg_right_5_link">
    <inertial>
      <mass value="1.29096"/>
      <inertia ixx="0.01143430819" ixy="-0.00096978273" ixz="0.00039976581" iyy="0.00888974312" iyz="0.00277808667" izz="0.00506373875"/>
      <origin rpy="0 0 0" xyz="-0.01400838 -0.04180064 0.03820186"/>
    </inertial>
    <visual>
      <origin rpy="0 0 0" xyz="-0.02 -0.04 0.0"/>
      <geometry>
        <box size="0.14 0.22 0.1"/>
      </geometry>
      <material name="White"/>
    </visual>
    <collision>
      <origin rpy="0 0 0" xyz="-0.02 -0.04 0.0"/>
      <geometry>
        <box size="0.14 0.22 0.1"/>
        <!-- <mesh filename="package://talos_description/meshes/v2/ankle_Y_collision.stl" scale="1 -1 1"/> -->
      </geometry>
    </collision>
  </link>
  <joint name="leg_right_5_joint" type="revolute">
    <parent link="leg_right_4_link"/>
    <child link="leg_right_5_link"/>
    <origin rpy="0.0 0.0 0.0" xyz="0.00000 0.00000 -0.32500"/>
    <axis xyz="0 1 0"/>
    <limit effort="160" lower="-1.27" upper="0.68" velocity="5.8"/>
    <dynamics damping="0.0" friction="0.0"/>
  </joint>
  <!-- Joint ankle_x (mesh link) : child link None -> parent link ankle_y -->
  <link name="leg_right_6_link">
    <inertial>
      <mass value="1.597773"/>
      <inertia ixx="0.00439027267" ixy="6.743674e-05" ixz="0.00113816363" iyy="0.00743063029" iyz="-3.943143e-05" izz="0.00550906699"/>
      <origin rpy="0 0 0" xyz="-0.02034668 0.00051514 -0.05987428"/>
    </inertial>
    <visual>
      <origin rpy="0 0 0" xyz="0 0 -0.03"/>
      <geometry>
        <box size="0.221 0.134 0.16"/>
      </geometry>
      <material name="White"/>
    </visual>
    <collision>
      <origin rpy="0 0 0" xyz="0 0 -0.03"/>
      <geometry>
            <box size="0.221 0.134 0.16"/>
<!--        <mesh filename="package://talos_description/meshes/v2/ankle_X_collision.glb" scale="1 -1 1"/>-->
      </geometry>
    </collision>
  </link>
  <joint name="leg_right_6_joint" type="revolute">
    <parent link="leg_right_5_link"/>
    <child link="leg_right_6_link"/>
    <origin rpy="0.0 0.0 0.0" xyz="0.00000 0.00000 0.00000"/>
    <axis xyz="1 0 0"/>
    <limit effort="100" lower="-0.5236" upper="0.5236" velocity="4.8"/>
    <dynamics damping="0.0" friction="0.0"/>
  </joint>
  <!-- from here is copy paste -->
  <link name="right_sole_link">
    <inertial>
      <mass value="0.01"/>
      <inertia ixx="0.0001" ixy="0" ixz="0" iyy="0.0001" iyz="0" izz="0.0001"/>
      <origin rpy="0 0 0" xyz="0 0 0"/>
    </inertial>
  </link>
  <joint name="leg_right_sole_fix_joint" type="fixed">
    <parent link="leg_right_6_link"/>
    <child link="right_sole_link"/>
    <origin rpy="0 0 0" xyz="0.00 0.00 -0.107"/>
    <axis xyz="1 0 0"/>
    <dynamics damping="0.0" friction="0.0"/>
  </joint>
  <material name="Blue">
    <color rgba="0.0 0.0 0.8 1.0"/>
  </material>
  <material name="Green">
    <color rgba="0.0 0.8 0.0 1.0"/>
  </material>
  <material name="Grey">
    <color rgba="0.7 0.7 0.7 1.0"/>
  </material>
  <material name="LightGrey">
    <color rgba="0.9 0.9 0.9 1.0"/>
  </material>
  <material name="DarkGrey">
    <color rgba="0.2 0.2 0.2 1.0"/>
  </material>
  <material name="Red">
    <color rgba="0.8 0.0 0.0 1.0"/>
  </material>
  <material name="White">
    <color rgba="1.0 1.0 1.0 1.0"/>
  </material>
  <material name="Black">
    <color rgba="0.0 0.0 0.0 1.0"/>
  </material>
</robot>
